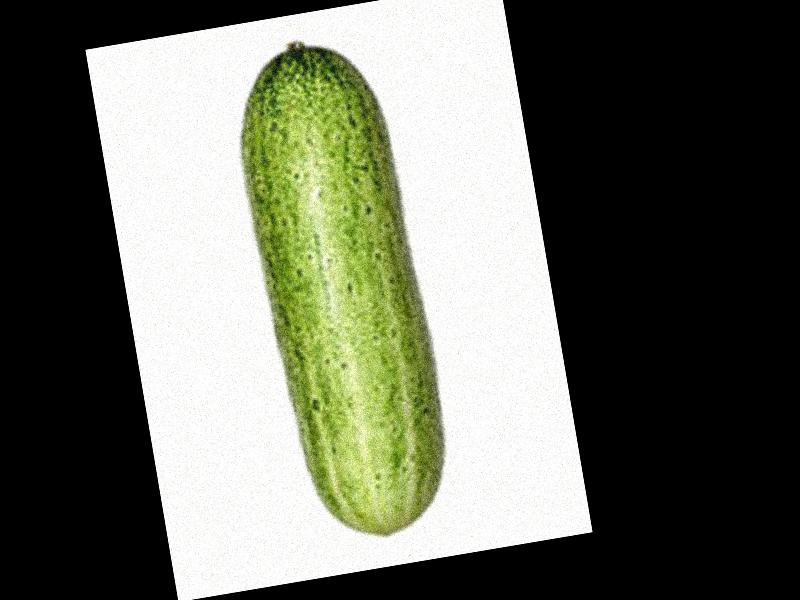Cucumber: (225, 28, 458, 549)
